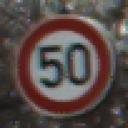speed_limit_50: (13, 13, 119, 120)
